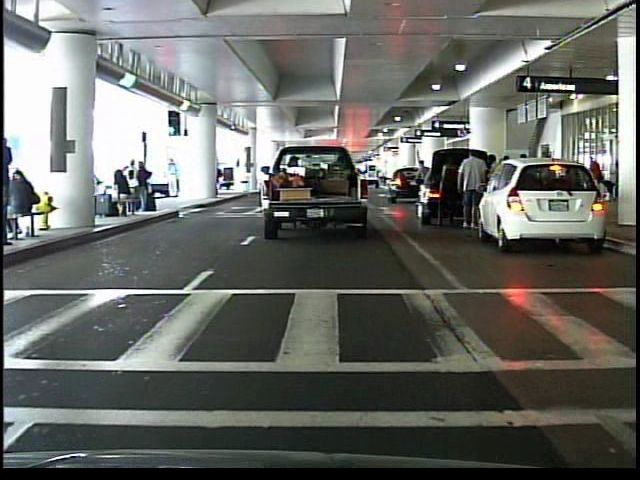person: (456, 145, 488, 235), (430, 148, 461, 229), (582, 151, 609, 201), (412, 156, 431, 210), (7, 130, 15, 243), (166, 156, 183, 200)
